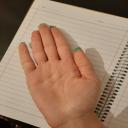OpenPalm: (17, 20, 106, 124)
